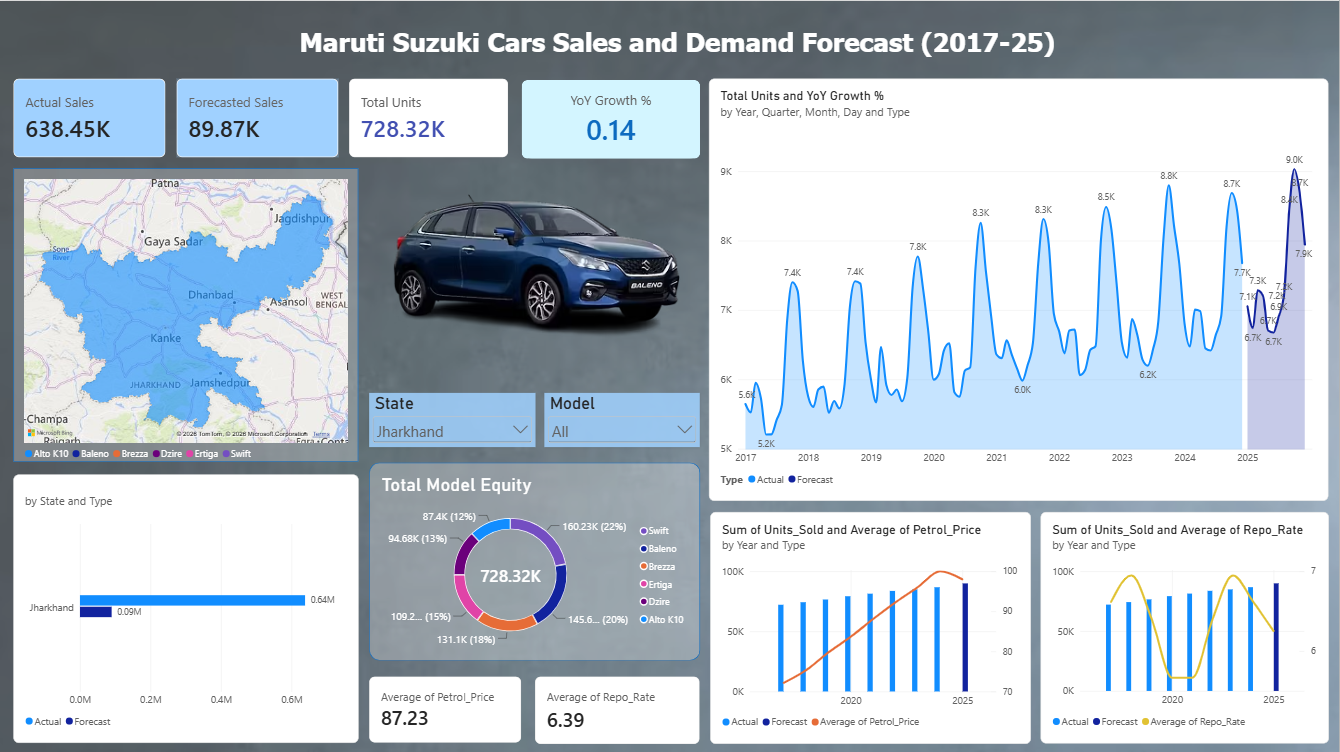

The page's visual inventory and layout, read from the dashboard file:
{"tool":"powerbi","page":{"name":"Page 1","canvas":[1920,1080],"ordinal":0},"visuals":[{"type":"shape","box":[19.9,240.4,494.7,421.2],"z":0},{"type":"shape","box":[528.4,661.5,474.8,284.1],"z":1000},{"type":"slicer","fields":{"Values":["maruti_sales_forecast_powerbi (2).State"]},"box":[528.4,562.2,238.4,77.5],"z":2000},{"type":"cardVisual","fields":{"Data":["maruti_sales_forecast_powerbi (2).Actual Sales"]},"box":[19.9,111.2,218.5,113.2],"z":3000},{"type":"cardVisual","fields":{"Data":["maruti_sales_forecast_powerbi (2).Forecasted Sales"]},"box":[252.3,111.2,232.4,113.2],"z":4000},{"type":"cardVisual","fields":{"Data":["maruti_sales_forecast_powerbi (2).Total Units"]},"box":[500.6,111.2,228.5,113.2],"z":5000},{"type":"donutChart","title":"Total Model Equity","fields":{"Category":["maruti_sales_forecast_powerbi (2).Model"],"Y":["maruti_sales_forecast_powerbi (2).Total Units"]},"box":[530.4,661.5,474.8,284.1],"z":6000},{"type":"slicer","fields":{"Values":["maruti_sales_forecast_powerbi (2).Model"]},"box":[780.5,562.2,222.5,77.5],"z":8000},{"type":"image","box":[530.4,240.4,472.8,276.1],"z":9000},{"type":"areaChart","fields":{"Category":["maruti_sales_forecast_powerbi (2).Date.Variation.Date Hierarchy.Year","maruti_sales_forecast_powerbi (2).Date.Variation.Date Hierarchy.Quarter","maruti_sales_forecast_powerbi (2).Date.Variation.Date Hierarchy.Month","maruti_sales_forecast_powerbi (2).Date.Variation.Date Hierarchy.Day"],"Series":["maruti_sales_forecast_powerbi (2).Type"],"Y":["maruti_sales_forecast_powerbi (2).Total Units"]},"box":[1017.1,111.2,888,605.9],"z":10000},{"type":"cardVisual","fields":{"Data":["Avg(maruti_sales_forecast_powerbi (2).Petrol_Price)"]},"box":[529.3,968.4,218.6,95.9],"z":11000},{"type":"cardVisual","fields":{"Data":["Avg(maruti_sales_forecast_powerbi (2).Repo_Rate)"]},"box":[766.8,967.5,236.4,97.3],"z":12000},{"type":"lineClusteredColumnComboChart","fields":{"Category":["maruti_sales_forecast_powerbi (2).Date.Variation.Date Hierarchy.Year","maruti_sales_forecast_powerbi (2).Date.Variation.Date Hierarchy.Quarter","maruti_sales_forecast_powerbi (2).Date.Variation.Date Hierarchy.Month","maruti_sales_forecast_powerbi (2).Date.Variation.Date Hierarchy.Day"],"Series":["maruti_sales_forecast_powerbi (2).Type"],"Y":["Sum(maruti_sales_forecast_powerbi (2).Units_Sold)"],"Y2":["Avg(maruti_sales_forecast_powerbi (2).Petrol_Price)"]},"box":[1017.5,732.5,460,332.5],"z":13000},{"type":"clusteredBarChart","fields":{"Category":["maruti_sales_forecast_powerbi (2).State","maruti_sales_forecast_powerbi (2).Type"],"Series":["maruti_sales_forecast_powerbi (2).Type"],"Y":["maruti_sales_forecast_powerbi (2).Total Units"]},"box":[19.9,679.4,494.7,385.4],"z":14000},{"type":"lineClusteredColumnComboChart","fields":{"Category":["maruti_sales_forecast_powerbi (2).Date.Variation.Date Hierarchy.Year","maruti_sales_forecast_powerbi (2).Date.Variation.Date Hierarchy.Quarter","maruti_sales_forecast_powerbi (2).Date.Variation.Date Hierarchy.Month","maruti_sales_forecast_powerbi (2).Date.Variation.Date Hierarchy.Day"],"Series":["maruti_sales_forecast_powerbi (2).Type"],"Y":["Sum(maruti_sales_forecast_powerbi (2).Units_Sold)"],"Y2":["Avg(maruti_sales_forecast_powerbi (2).Repo_Rate)"]},"box":[1491.9,733.1,413.2,331.8],"z":15000},{"type":"textbox","box":[429.1,35.8,1102.6,59.6],"z":16000},{"type":"cardVisual","fields":{"Data":["maruti_sales_forecast_powerbi (2).YoY Growth %"]},"box":[747,113.2,256.3,113.2],"z":17000},{"type":"filledMap","title":"Total Model Equity","fields":{"Category":["maruti_sales_forecast_powerbi (2).State"],"Series":["maruti_sales_forecast_powerbi (2).Model"]},"box":[19.9,240.4,494.7,439],"z":18000}]}

Visuals, with their boxes in screenshot pixels (x1, y1, x2, y2), scaled from the page's 1920x1080 canvas onto the 1340x752 screenshot:
shape: x1=14 y1=167 x2=359 y2=461
shape: x1=369 y1=461 x2=700 y2=658
slicer - maruti_sales_forecast_powerbi (2).State: x1=369 y1=391 x2=535 y2=445
cardVisual - maruti_sales_forecast_powerbi (2).Actual Sales: x1=14 y1=77 x2=166 y2=156
cardVisual - maruti_sales_forecast_powerbi (2).Forecasted Sales: x1=176 y1=77 x2=338 y2=156
cardVisual - maruti_sales_forecast_powerbi (2).Total Units: x1=349 y1=77 x2=509 y2=156
"Total Model Equity" donutChart: x1=370 y1=461 x2=702 y2=658
slicer - maruti_sales_forecast_powerbi (2).Model: x1=545 y1=391 x2=700 y2=445
image: x1=370 y1=167 x2=700 y2=360
areaChart - maruti_sales_forecast_powerbi (2).Date.Variation.Date Hierarchy.Year x maruti_sales_forecast_powerbi (2).Date.Variation.Date Hierarchy.Quarter: x1=710 y1=77 x2=1330 y2=499
cardVisual - Avg(maruti_sales_forecast_powerbi (2).Petrol_Price): x1=369 y1=674 x2=522 y2=741
cardVisual - Avg(maruti_sales_forecast_powerbi (2).Repo_Rate): x1=535 y1=674 x2=700 y2=741
lineClusteredColumnComboChart - maruti_sales_forecast_powerbi (2).Date.Variation.Date Hierarchy.Year x maruti_sales_forecast_powerbi (2).Date.Variation.Date Hierarchy.Quarter: x1=710 y1=510 x2=1031 y2=742
clusteredBarChart - maruti_sales_forecast_powerbi (2).State x maruti_sales_forecast_powerbi (2).Type: x1=14 y1=473 x2=359 y2=741
lineClusteredColumnComboChart - maruti_sales_forecast_powerbi (2).Date.Variation.Date Hierarchy.Year x maruti_sales_forecast_powerbi (2).Date.Variation.Date Hierarchy.Quarter: x1=1041 y1=510 x2=1330 y2=741
textbox: x1=299 y1=25 x2=1069 y2=66
cardVisual - maruti_sales_forecast_powerbi (2).YoY Growth %: x1=521 y1=79 x2=700 y2=158
"Total Model Equity" filledMap: x1=14 y1=167 x2=359 y2=473
